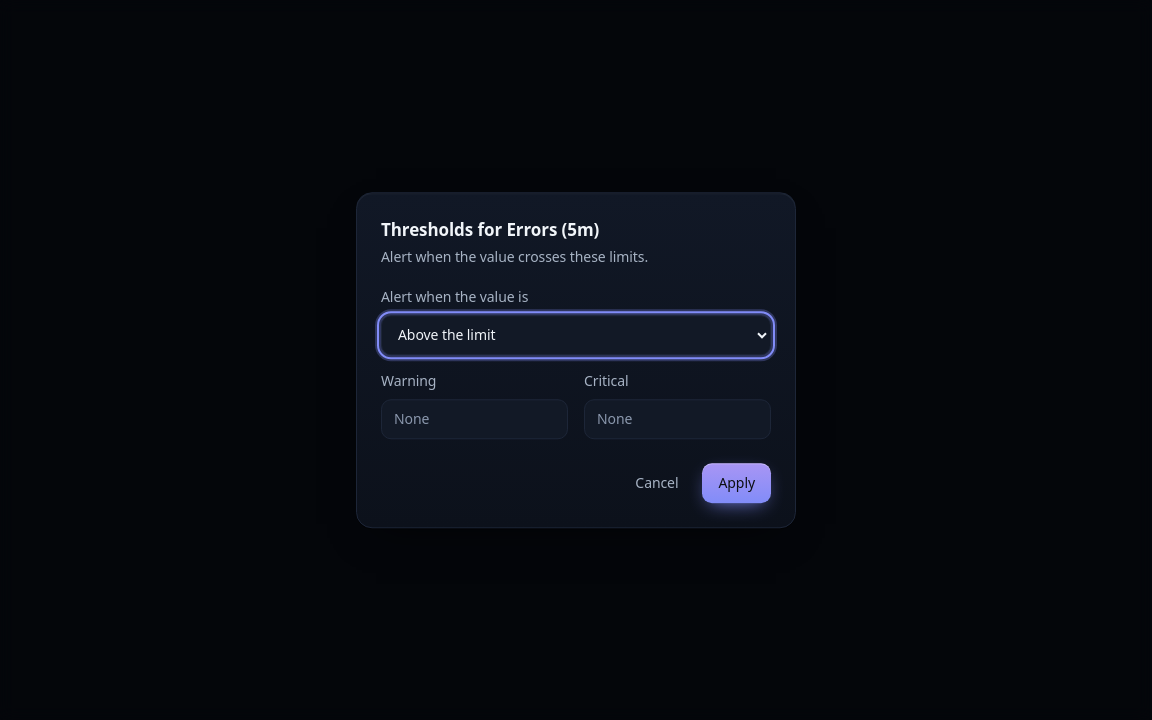
Scenario: Threshold dialog › rejects a critical limit that isn't beyond the warning limit
The image size is (1152, 720).
Type "300" into the field labelled "Warning".
click(474, 419); type("300")  # box [381, 399, 568, 439]
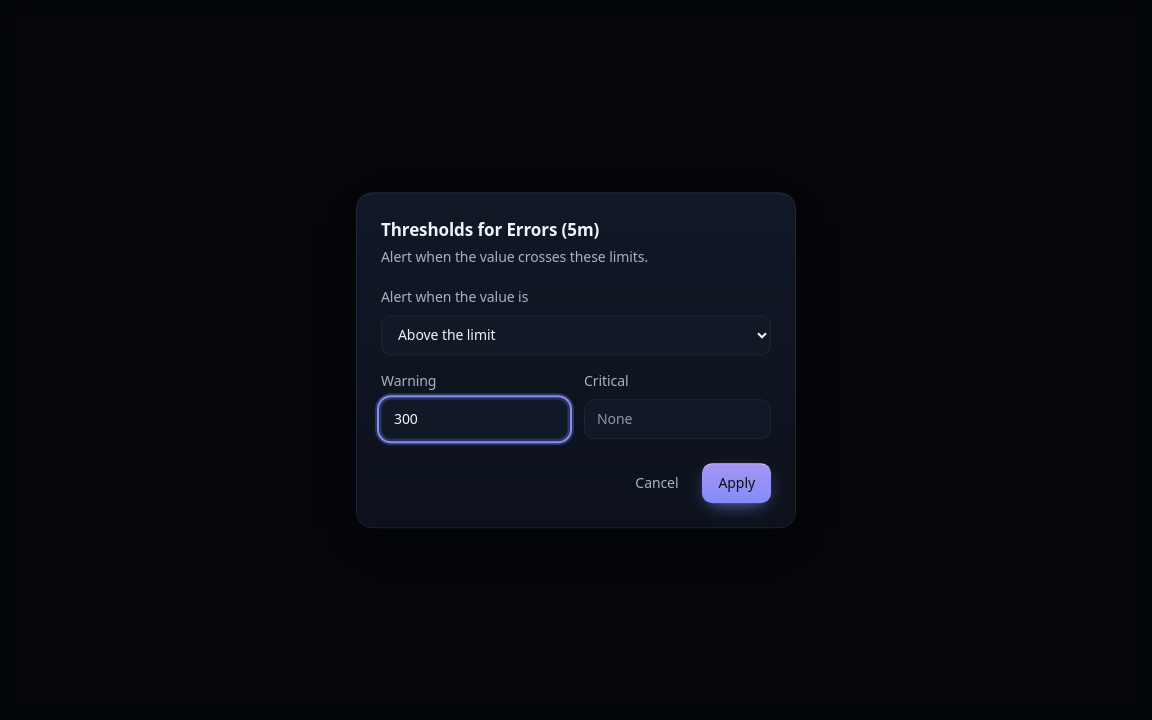
Type "200" into the field labelled "Critical".
click(678, 419); type("200")  # box [584, 399, 771, 439]
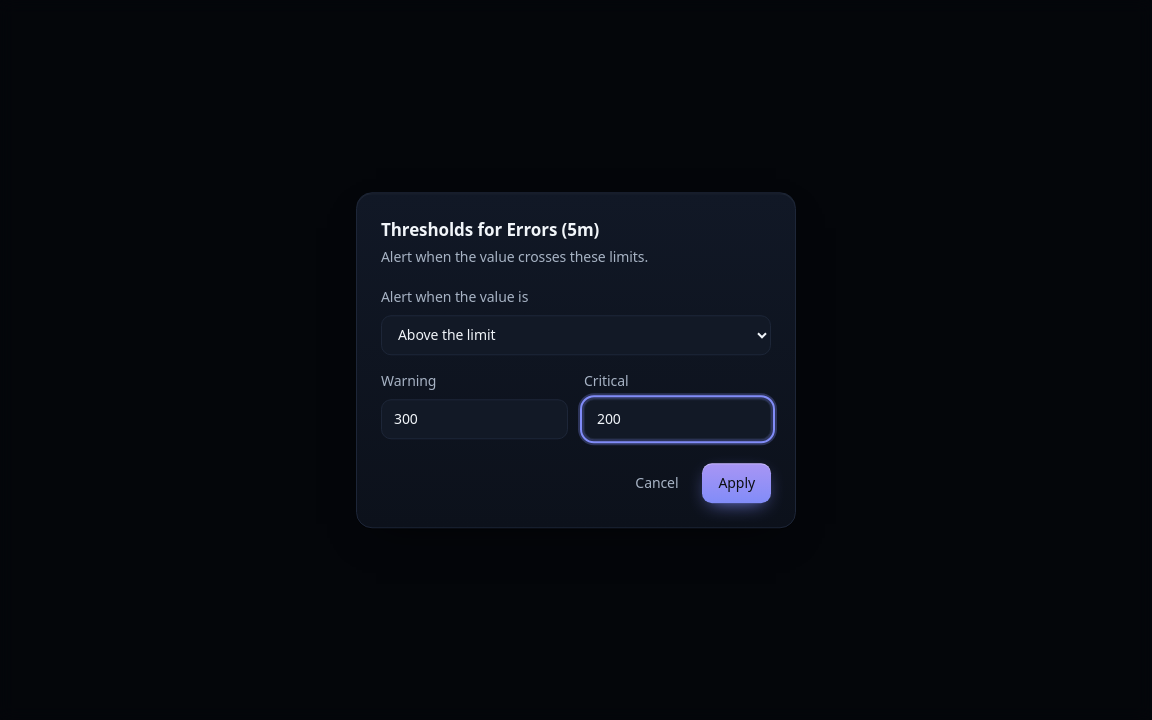
Click the button "Apply".
click(737, 483)  # box [702, 463, 771, 503]
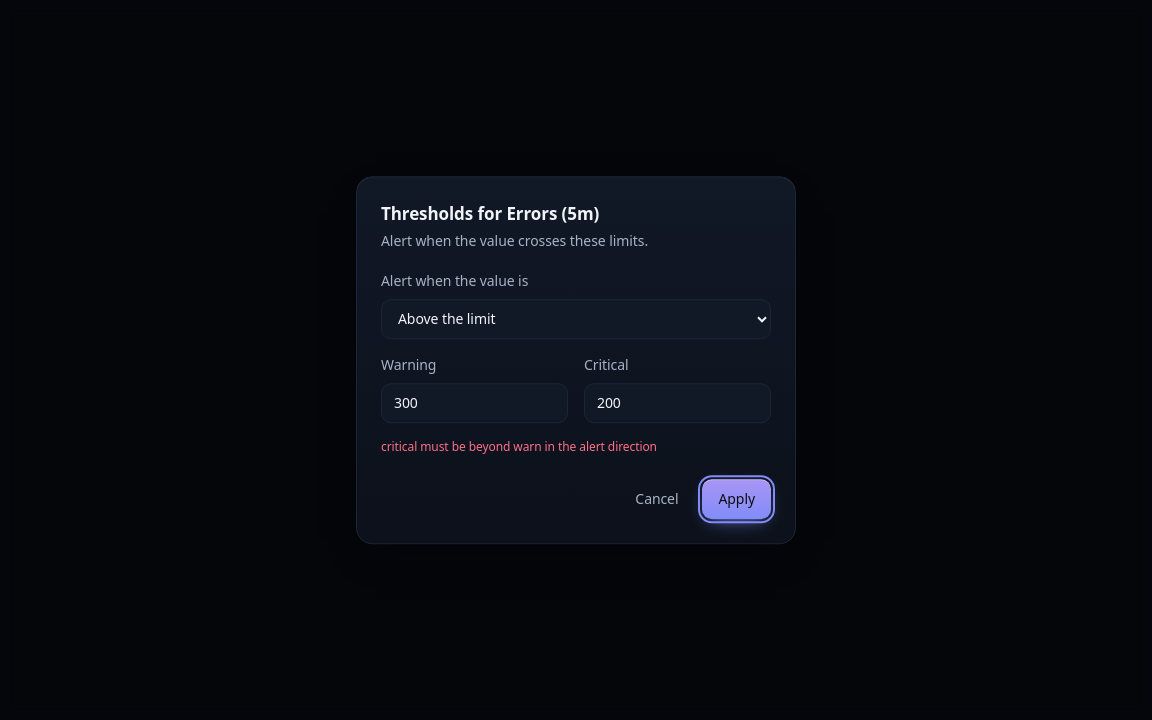
Now the text "critical must be beyond warn in the alert direction" is shown, box [381, 438, 657, 455]
